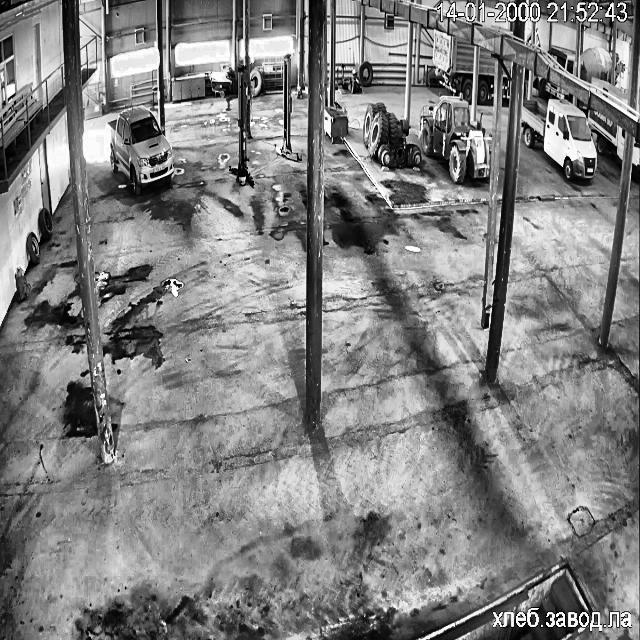car lift: (230, 66, 253, 186), (275, 54, 300, 161)
fire extinguisher: (16, 268, 30, 300)
tractor: (420, 96, 489, 182), (362, 102, 420, 166)
truck: (521, 99, 596, 180), (109, 106, 173, 194), (432, 28, 472, 100), (588, 108, 624, 158), (580, 46, 610, 83), (477, 49, 494, 102), (592, 80, 628, 102), (536, 77, 571, 99), (548, 45, 574, 73), (632, 140, 640, 176), (499, 74, 509, 98), (504, 60, 510, 73), (616, 62, 620, 76)
